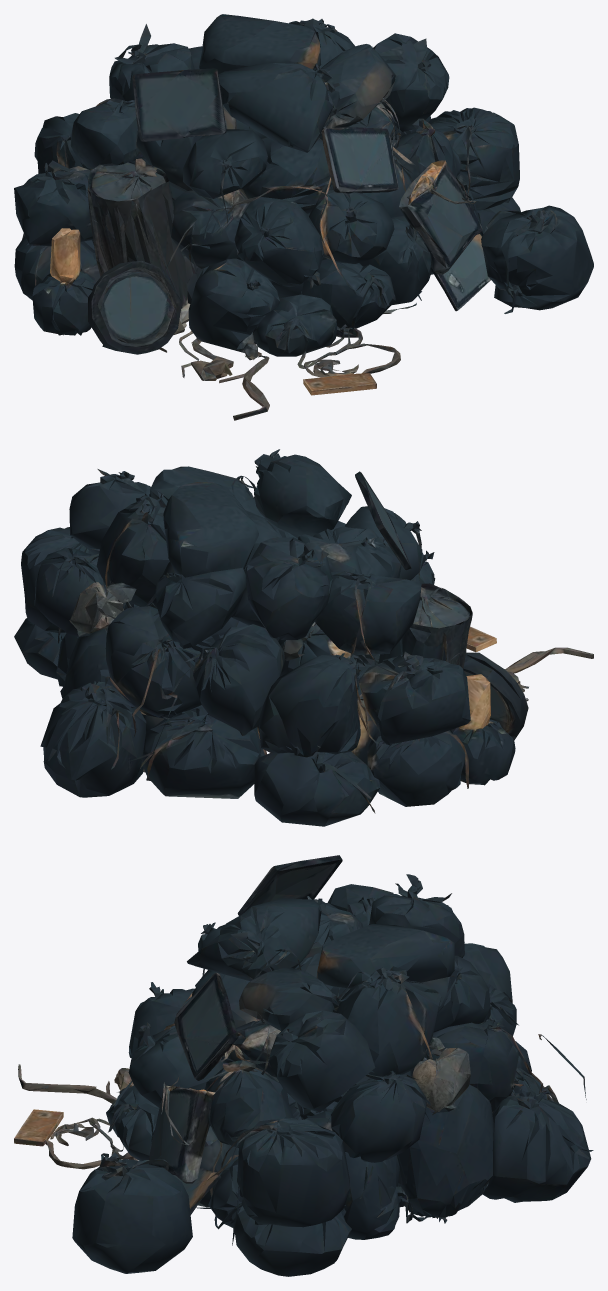
The model's file is mx_prop_trash_pile.glb.
3 renders of one model, top to bottom at view 1: azimuth 30°, elevation 25°; view 2: azimuth 150°, elevation 25°; view 3: azimuth 270°, elevation 25°, orthographic. The views are drawn at different scales.
Bounding box in the file's own units: 1.89 × 0.9328 × 1.9.
Materials: 1 (1 with a texture image).
